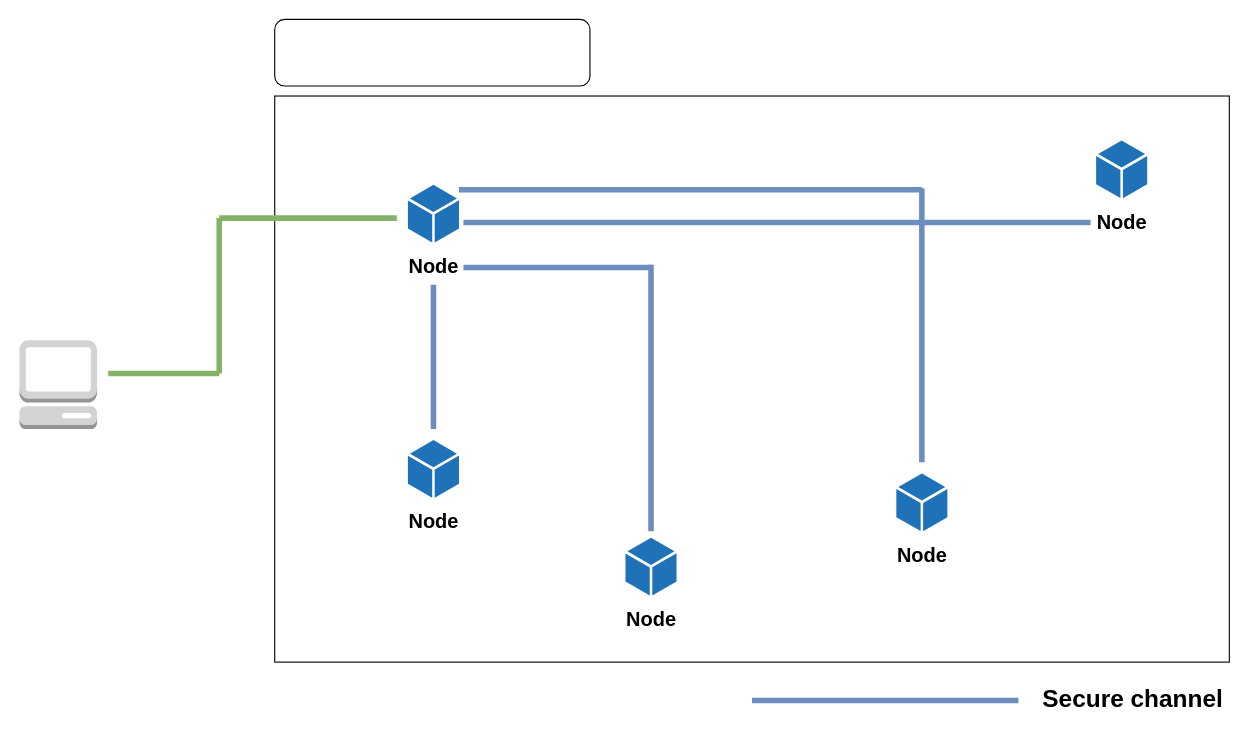
Image size: 1249x750. Some labels were removed from this diagram. Here are the shapes that lost their labels. From the top down, the centre of each, then its label:
At (x=432, y=52): "Distributed File System".
At (x=57, y=384): "Client".
